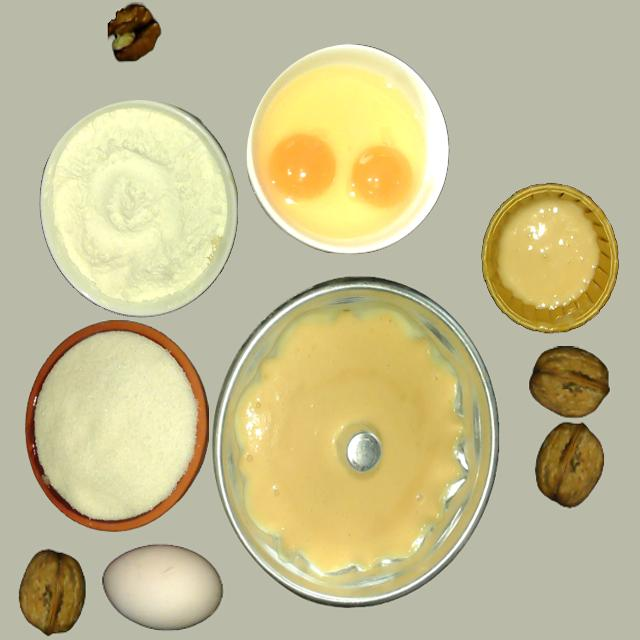Egg: (269, 133, 337, 200), (351, 146, 411, 207)
Flour: (39, 100, 233, 316)
Sugar: (24, 320, 208, 532)
Walnut: (529, 346, 610, 418), (535, 423, 604, 507), (18, 550, 85, 634)
